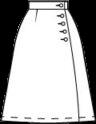Hemline: (0, 120, 95, 122)
Waistline: (28, 0, 67, 2), (28, 8, 67, 9)
